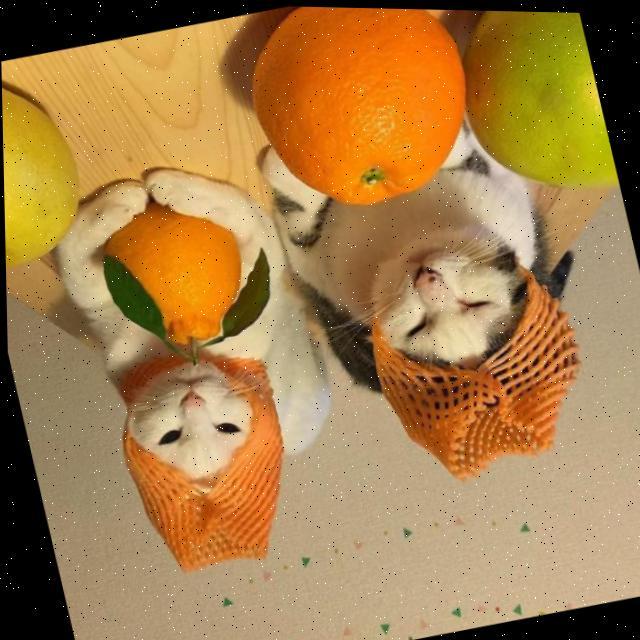Cats: (240, 68, 624, 506), (24, 142, 361, 588)
